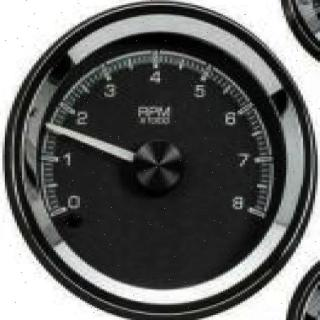gauge: (0, 0, 320, 320), (130, 138, 186, 194), (233, 192, 273, 231), (45, 194, 79, 230), (40, 117, 60, 135)
